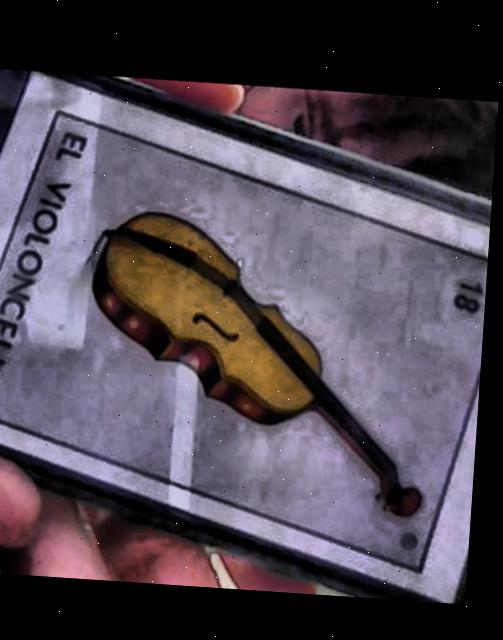El Violoncello: (0, 113, 491, 570)
